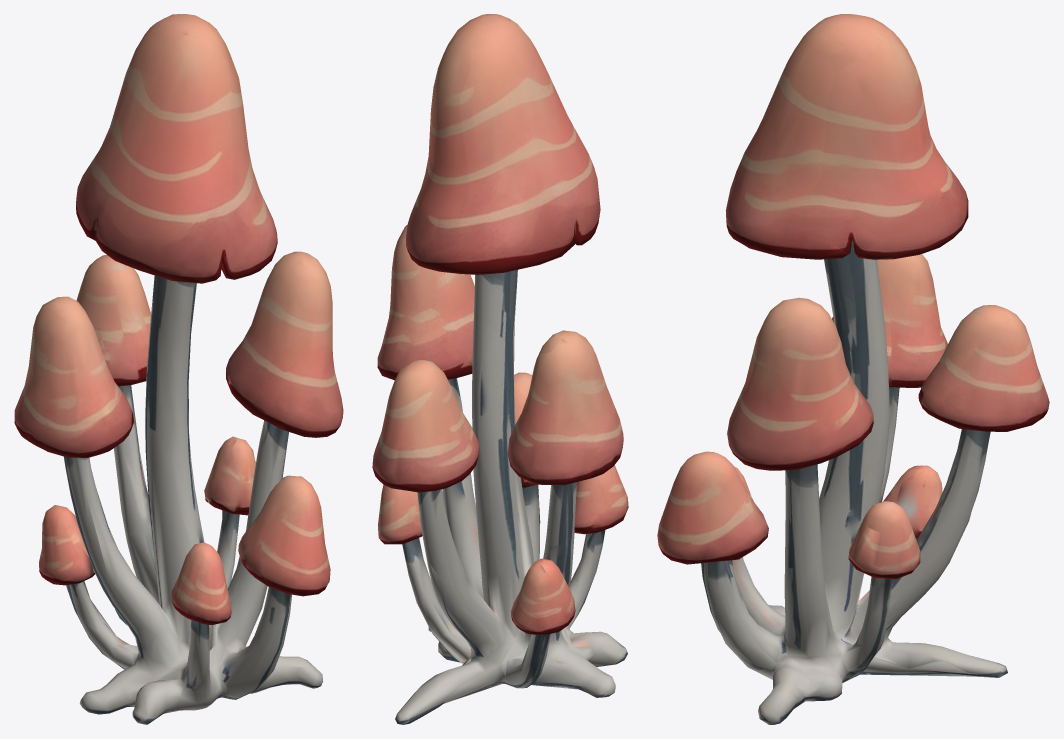
3 renders of one model, left to right at view 1: azimuth 30°, elevation 25°; view 2: azimuth 150°, elevation 25°; view 3: azimuth 270°, elevation 25°, orthographic.
Parts seen in each view (by area): view 1: node_0; view 2: node_0; view 3: node_0.
Part boxes in pixels (x1,y1,x2,y2): node_0: [14, 14, 343, 724]; node_0: [372, 14, 628, 724]; node_0: [657, 14, 1049, 724].
Bounding box in the file's own units: 0.3332 × 0.7966 × 0.427.
1 material, 1 textured.
